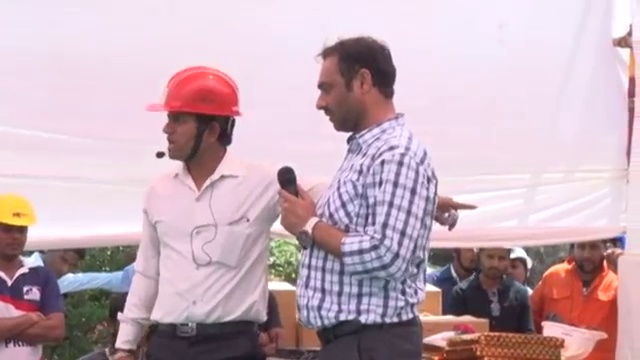helmet: (138, 69, 253, 120), (537, 319, 607, 359), (1, 202, 38, 230), (506, 247, 533, 270)
helmet_off: (314, 37, 403, 131), (567, 237, 611, 276), (42, 248, 86, 281), (476, 245, 511, 285), (451, 243, 482, 276)
helmet_on: (137, 69, 254, 175), (1, 203, 36, 258), (506, 249, 534, 287)
person: (277, 38, 456, 360), (106, 65, 288, 360), (534, 237, 622, 358), (0, 206, 65, 359), (445, 247, 539, 330), (419, 243, 482, 316)
